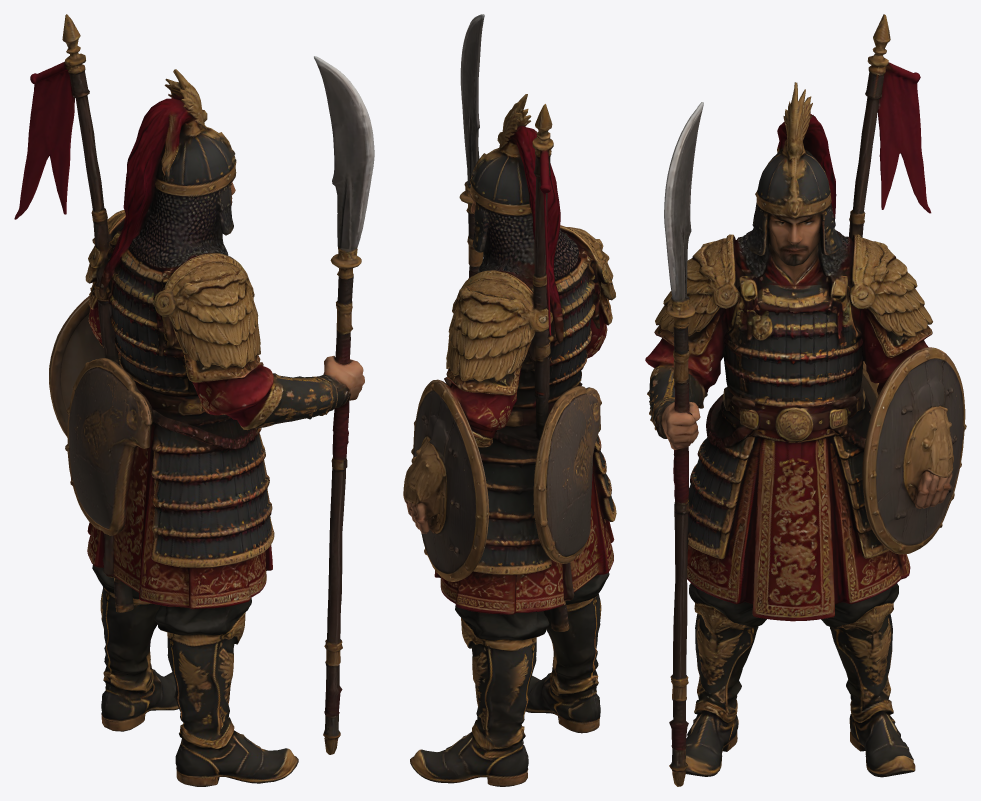
File: vanguard_T9-tripo.glb
3 views of the same model, side by side, from view 1: azimuth 30°, elevation 25°; view 2: azimuth 150°, elevation 25°; view 3: azimuth 270°, elevation 25° (orthographic). The views are drawn at different scales.
Visible parts, largest first — view 1: tripo_node_920d28ac-a053-4bbf-9a28-af5fb2d0eda9; view 2: tripo_node_920d28ac-a053-4bbf-9a28-af5fb2d0eda9; view 3: tripo_node_920d28ac-a053-4bbf-9a28-af5fb2d0eda9.
Boxes of the visible parts, x1,y1,x2,y2 form: tripo_node_920d28ac-a053-4bbf-9a28-af5fb2d0eda9: (14, 14, 374, 786); tripo_node_920d28ac-a053-4bbf-9a28-af5fb2d0eda9: (403, 14, 616, 786); tripo_node_920d28ac-a053-4bbf-9a28-af5fb2d0eda9: (645, 14, 966, 786).
Size of the model in its own units: 0.3306 by 1 by 0.4118.
1 material, 1 textured.
